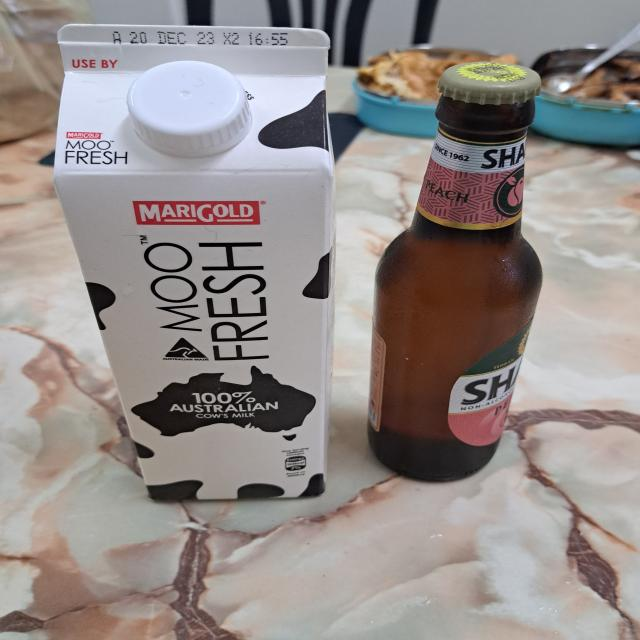drink carton: (55, 22, 339, 502)
glass bottle: (365, 61, 542, 484)
plastic bottle cap: (125, 60, 254, 157)
